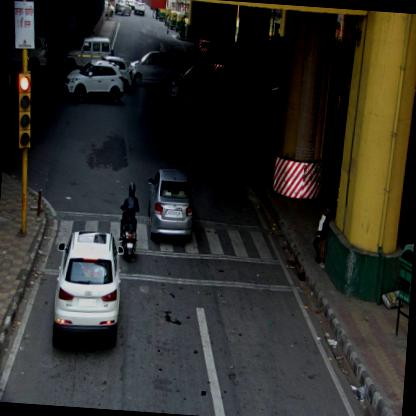car: (50, 228, 124, 352), (144, 168, 196, 244), (64, 61, 126, 106), (126, 48, 178, 90), (170, 69, 222, 104), (64, 35, 115, 70), (10, 33, 48, 71), (113, 0, 133, 18), (134, 0, 147, 17)
motorcycle: (118, 182, 141, 261)
